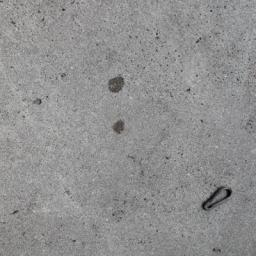FOD: (197, 182, 237, 214)
